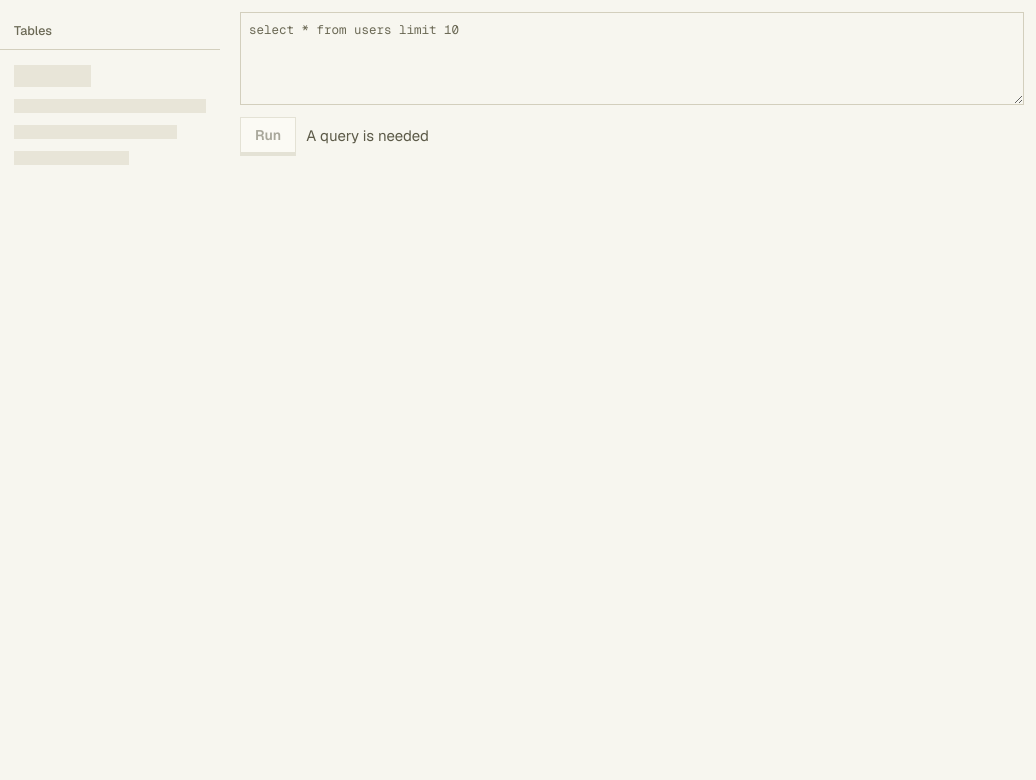
Scenario: Data › runs SQL and shows the rows, what it changed, or the database's words
This screenshot has width=1036, height=780.
Type "select n from t" into the text box named "SQL" at {"x": 632, "y": 58}, box [240,12,1024,105]
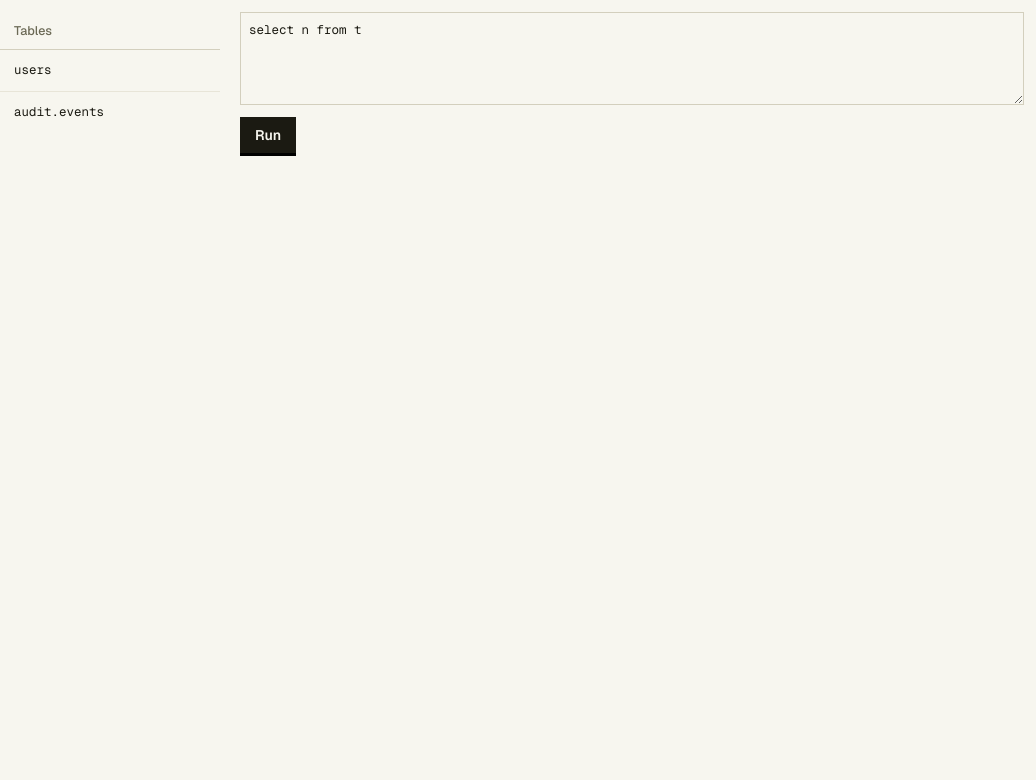
Click the button "Run" at {"x": 268, "y": 135}, box [240,117,296,153]
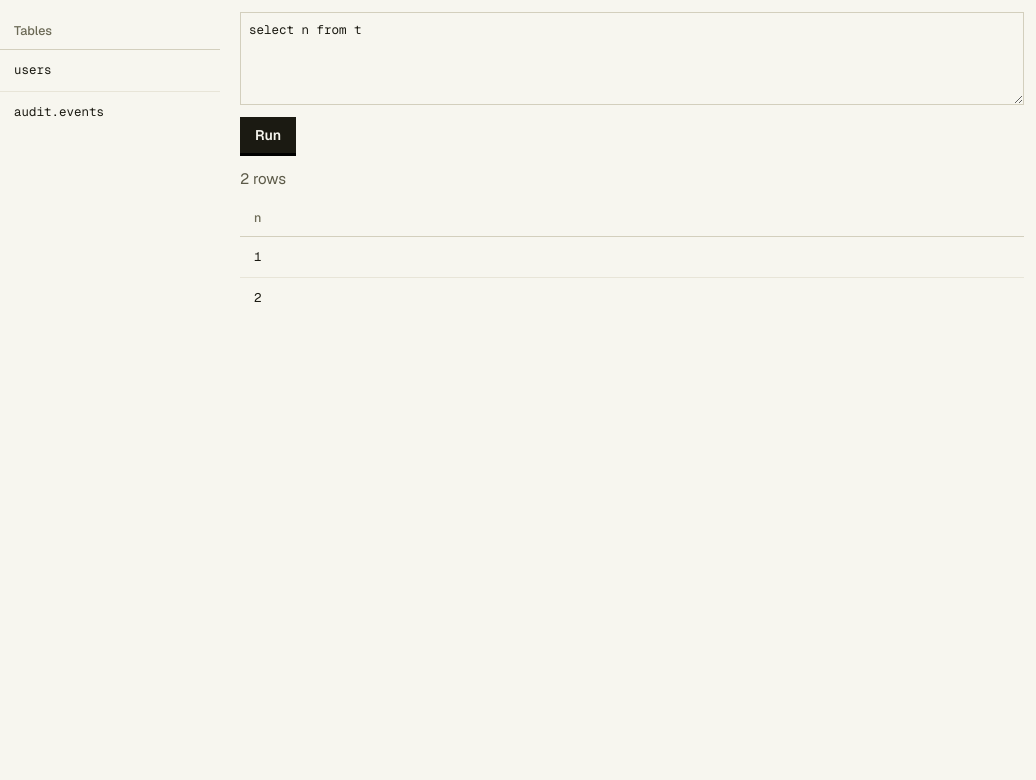
expect the text "2 rows" is shown: met, box [240,169,286,188]
Press Enter in the text box named "SQL", box [240,12,1024,105]
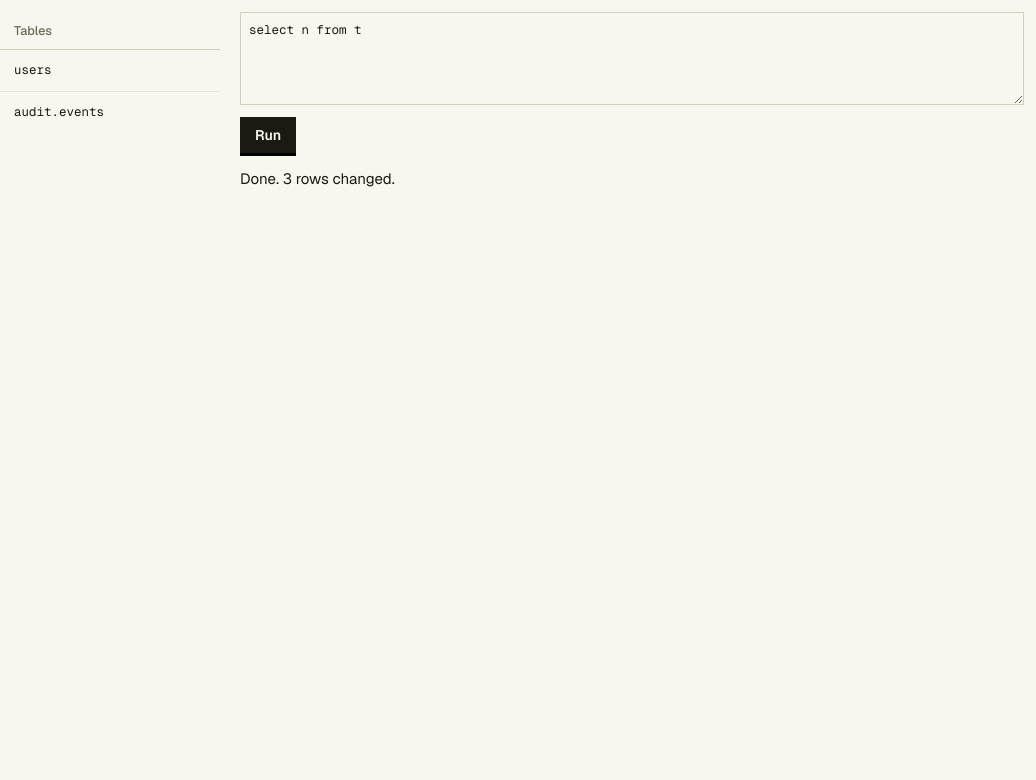
expect the text "Done. 3 rows changed." is shown: met, box [240,169,395,188]
Click the button "Run" at {"x": 268, "y": 135}, box [240,117,296,153]
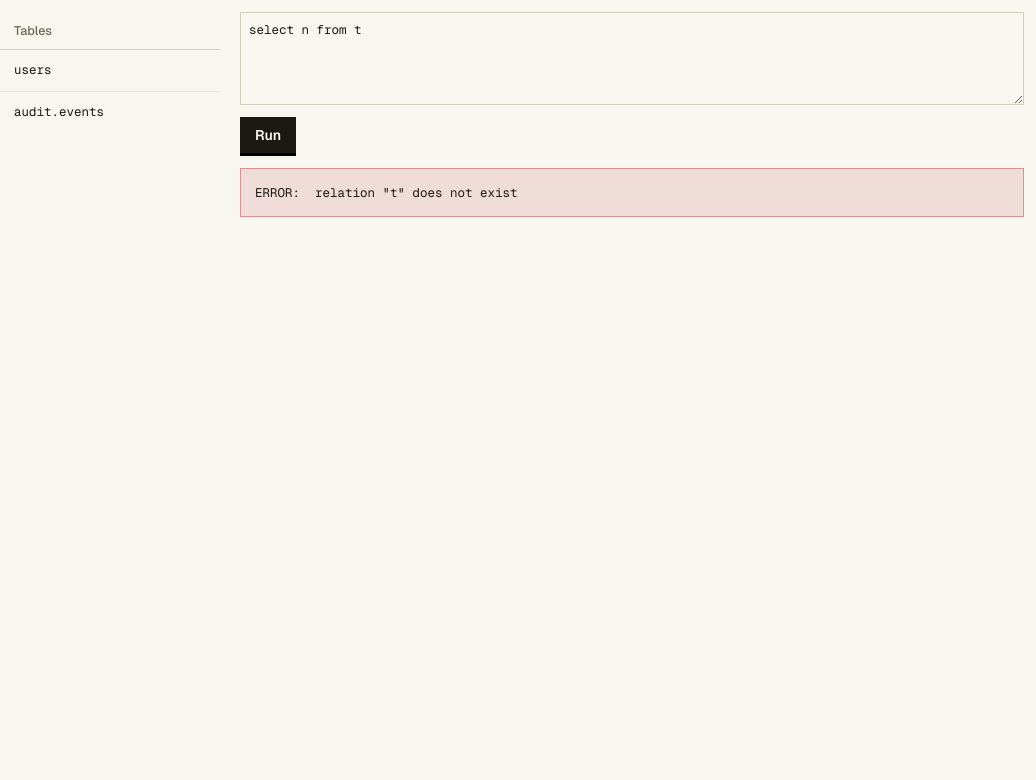
expect the text "ERROR: relation \"t\" does not exist" is shown: met, box [255,184,518,201]
Click the button "Run" at {"x": 268, "y": 135}, box [240,117,296,153]
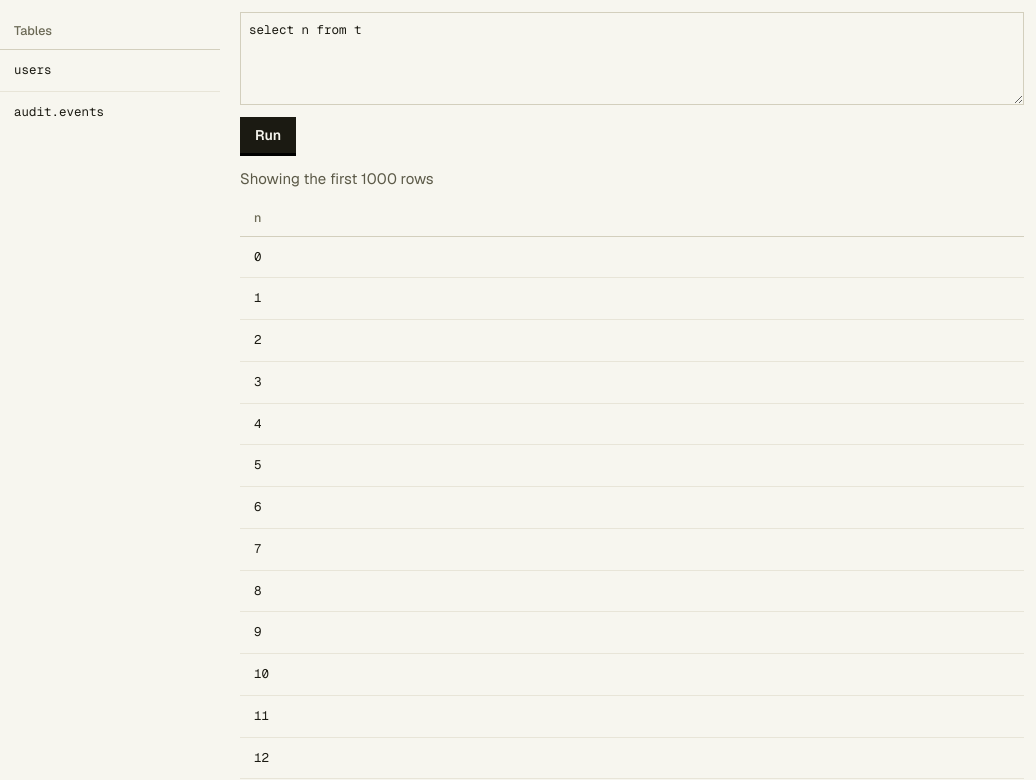
expect the text "Showing the first 1000 rows" is shown: met, box [240,169,434,188]
